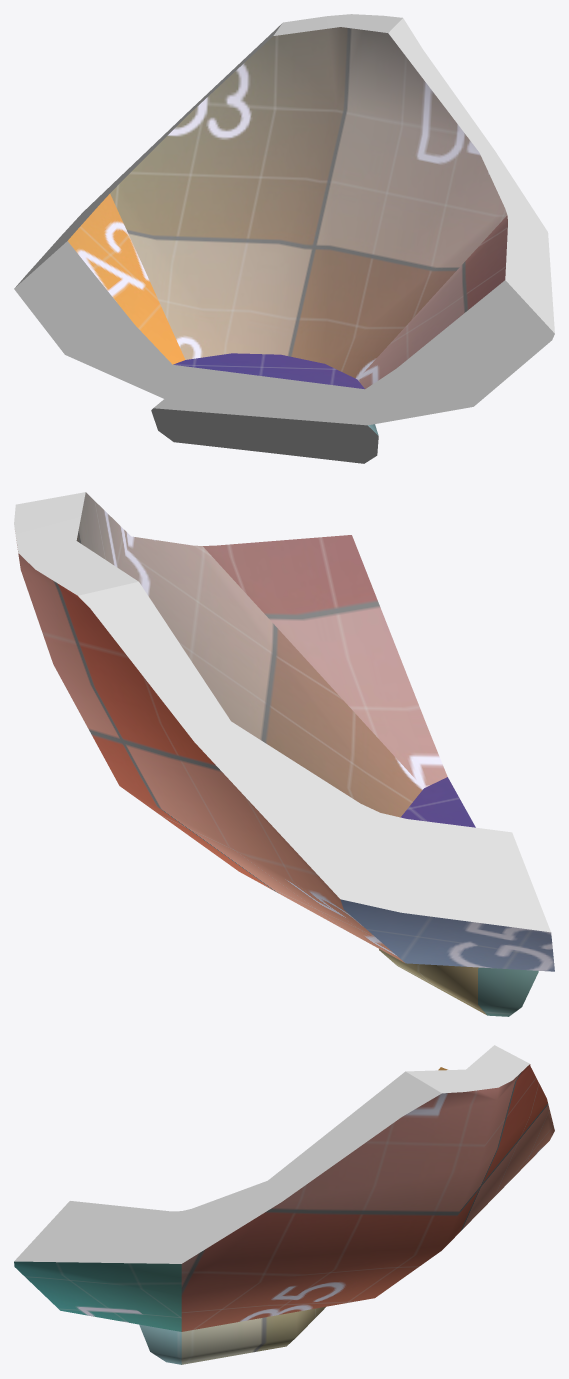
The model's file is SmallVase_SHAT_cell_006.fbx.
3 views of the same model, one above another, from view 1: azimuth 30°, elevation 25°; view 2: azimuth 150°, elevation 25°; view 3: azimuth 270°, elevation 25° (orthographic). The views are drawn at different scales.
Parts seen in each view (by area): view 1: SmallVase_SHAT_cell_006; view 2: SmallVase_SHAT_cell_006; view 3: SmallVase_SHAT_cell_006.
Part boxes in pixels (bbox=[...]): SmallVase_SHAT_cell_006: bbox=[14, 14, 554, 463]; SmallVase_SHAT_cell_006: bbox=[14, 492, 554, 1016]; SmallVase_SHAT_cell_006: bbox=[14, 1045, 554, 1364].
Size of the model in its own units: 0.6235 by 0.472 by 0.6387.
2 materials, 1 textured.
